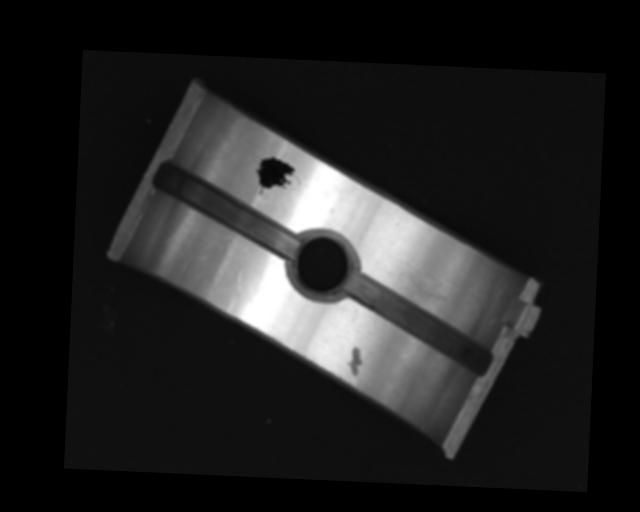blot: (253, 155, 301, 197)
bruise: (346, 344, 364, 377)
gap: (344, 273, 491, 372), (152, 159, 302, 253)
hole: (286, 227, 360, 300)
nick: (225, 271, 248, 314)
scratch: (392, 261, 457, 305)
